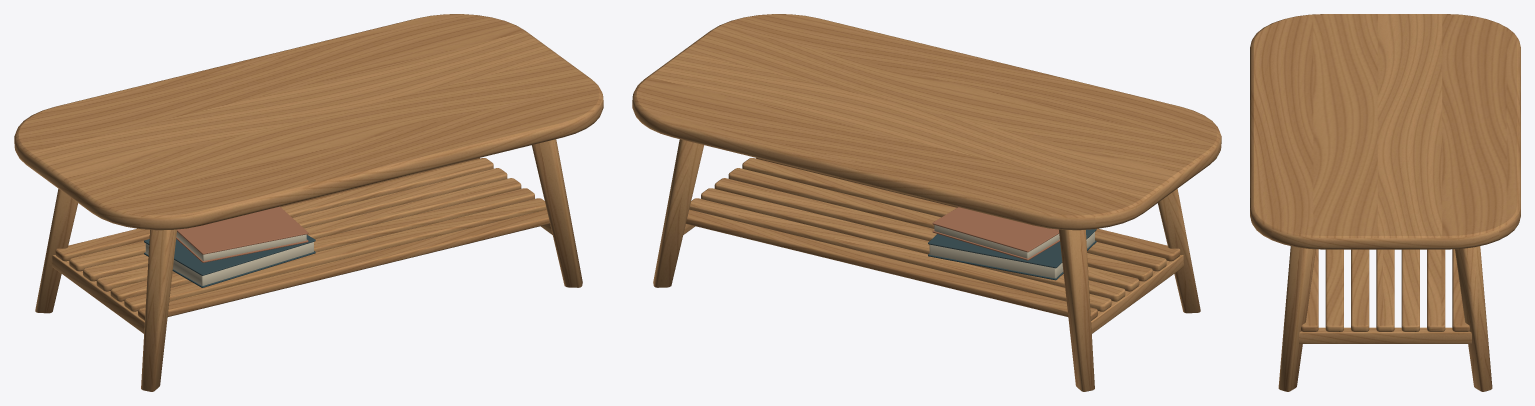
3 renders of one model, left to right at view 1: azimuth 30°, elevation 25°; view 2: azimuth 150°, elevation 25°; view 3: azimuth 270°, elevation 25°, orthographic. The views are drawn at different scales.
Parts seen in each view (by area): view 1: sample-table; view 2: sample-table; view 3: sample-table.
Boxes of the visible parts, <box> form: sample-table: <box>14,14,603,391</box>; sample-table: <box>632,14,1221,391</box>; sample-table: <box>1250,14,1520,391</box>.
Bounding box in the file's own units: 1.22 × 0.425 × 0.62.
Materials: 4 (1 with a texture image).
